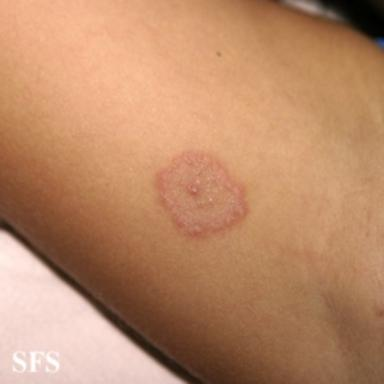Tinea-Corporis: (157, 151, 245, 235)
